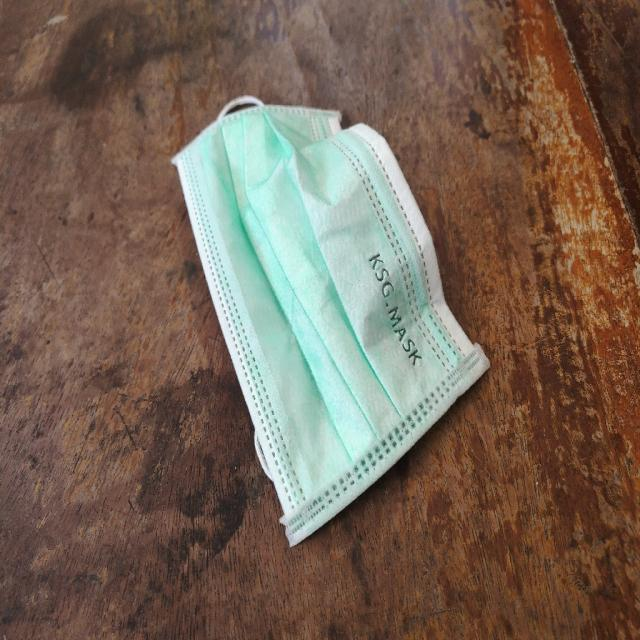face mask: (166, 80, 494, 554)
